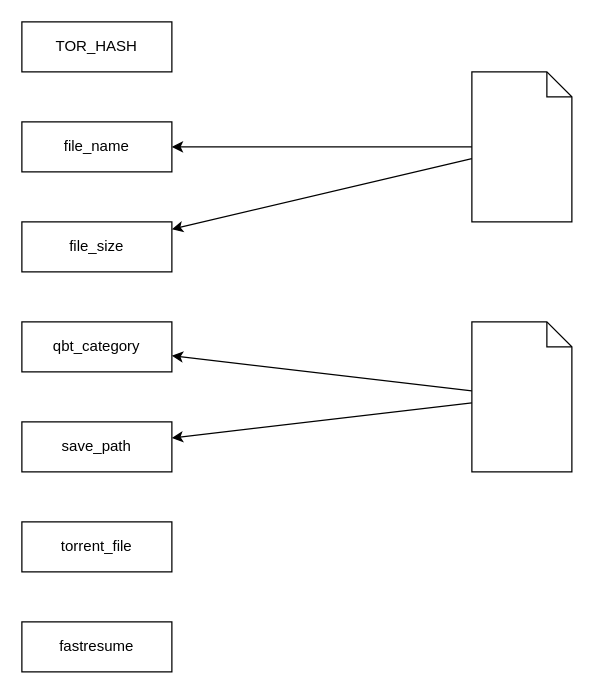
Some shapes in this 594 by 694 pixel diagram are drawn without their labels. The shapes that lost their labels are listed below. From the top down, each one's centre as x and y in pixels, then its label:
At point (521, 146): ".torrent".
At point (521, 396): ". fastresume".
